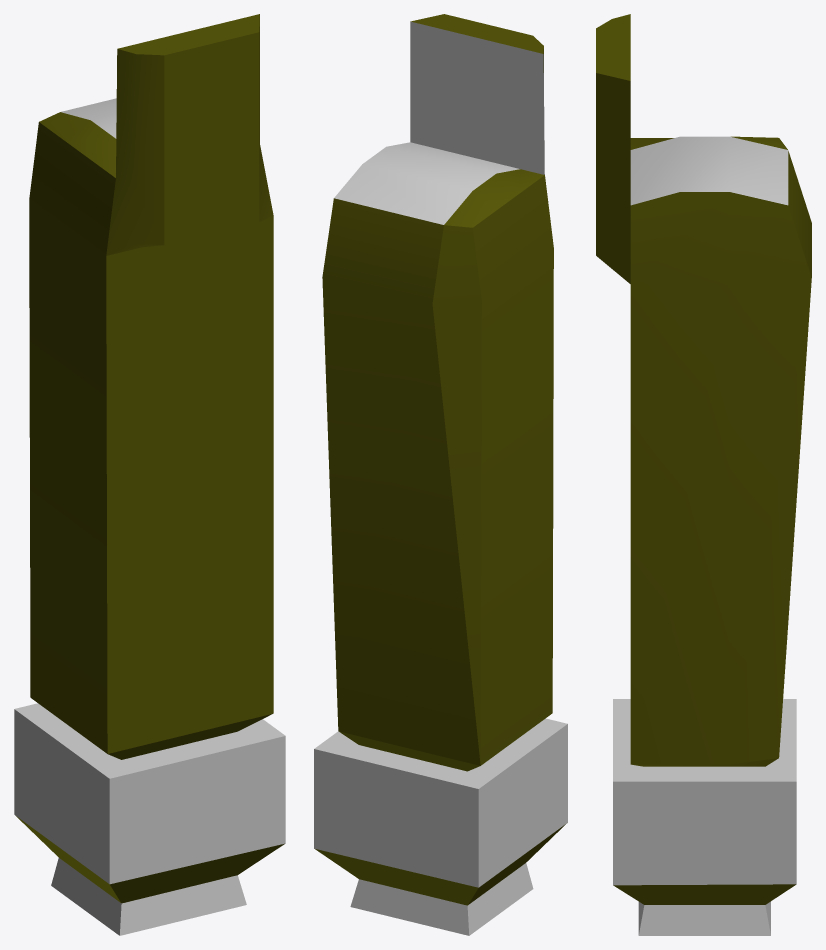
Rendered from rightLeg.obj.
3 views of the same model, side by side, from view 1: azimuth 30°, elevation 25°; view 2: azimuth 150°, elevation 25°; view 3: azimuth 270°, elevation 25° (orthographic). The views are drawn at different scales.
Parts seen in each view (by area): view 1: 4_Lower_Leg.R_Cube.028; view 2: 4_Lower_Leg.R_Cube.028; view 3: 4_Lower_Leg.R_Cube.028.
Boxes of the visible parts, box(x1,y1,x2,y2) form: 4_Lower_Leg.R_Cube.028: box(14, 14, 285, 935); 4_Lower_Leg.R_Cube.028: box(314, 14, 567, 935); 4_Lower_Leg.R_Cube.028: box(596, 14, 811, 935).
Size of the model in its own units: 0.8677 by 4.2 by 0.9557.
